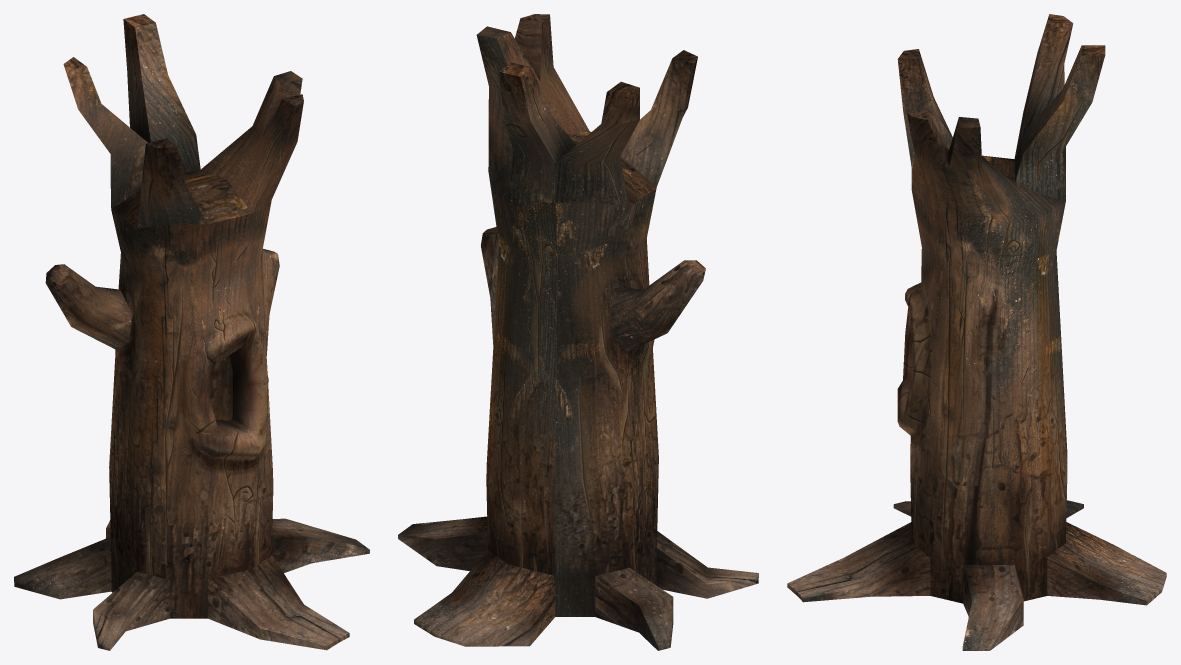
3 renders of one model, left to right at view 1: azimuth 30°, elevation 25°; view 2: azimuth 150°, elevation 25°; view 3: azimuth 270°, elevation 25°, orthographic. The views are drawn at different scales.
Visible parts, largest first — view 1: exterieur, interieur; view 2: exterieur; view 3: exterieur.
Part boxes in pixels (left/top/right/bottom): exterieur: left=14, top=14, right=369, bottom=650; interieur: left=209, top=355, right=232, bottom=421; exterieur: left=398, top=14, right=758, bottom=650; exterieur: left=787, top=14, right=1166, bottom=650.
Bounding box in the file's own units: 246 × 419 × 271.
Materials: 1 (1 with a texture image).
